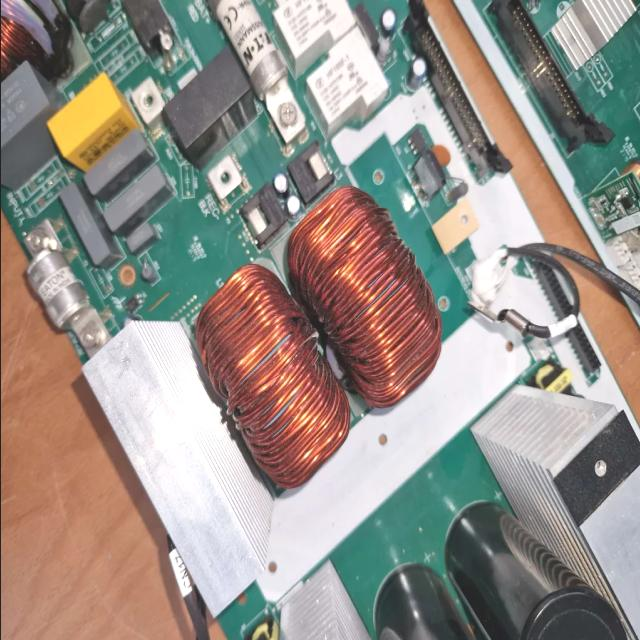A: (195, 266, 347, 488), (301, 188, 439, 407), (0, 0, 49, 94)
B: (209, 0, 293, 113), (24, 232, 92, 338)
C: (452, 506, 622, 640), (374, 571, 478, 640)
G: (93, 309, 254, 591), (482, 401, 640, 587)
